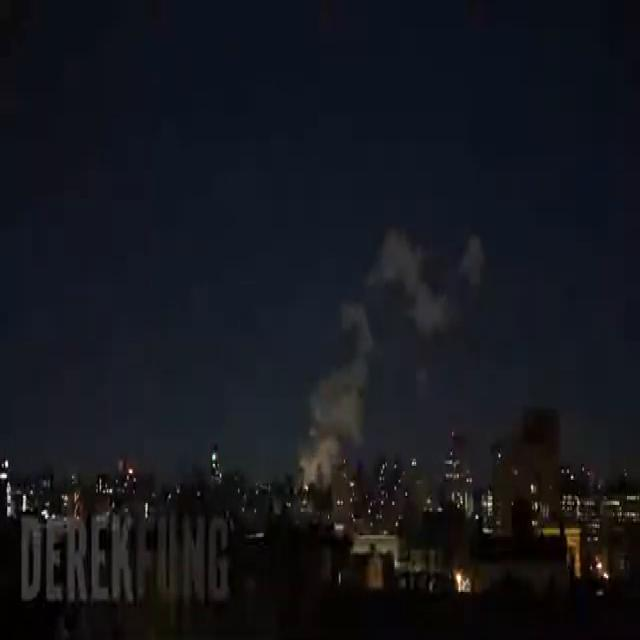smoke: (300, 304, 373, 516)
